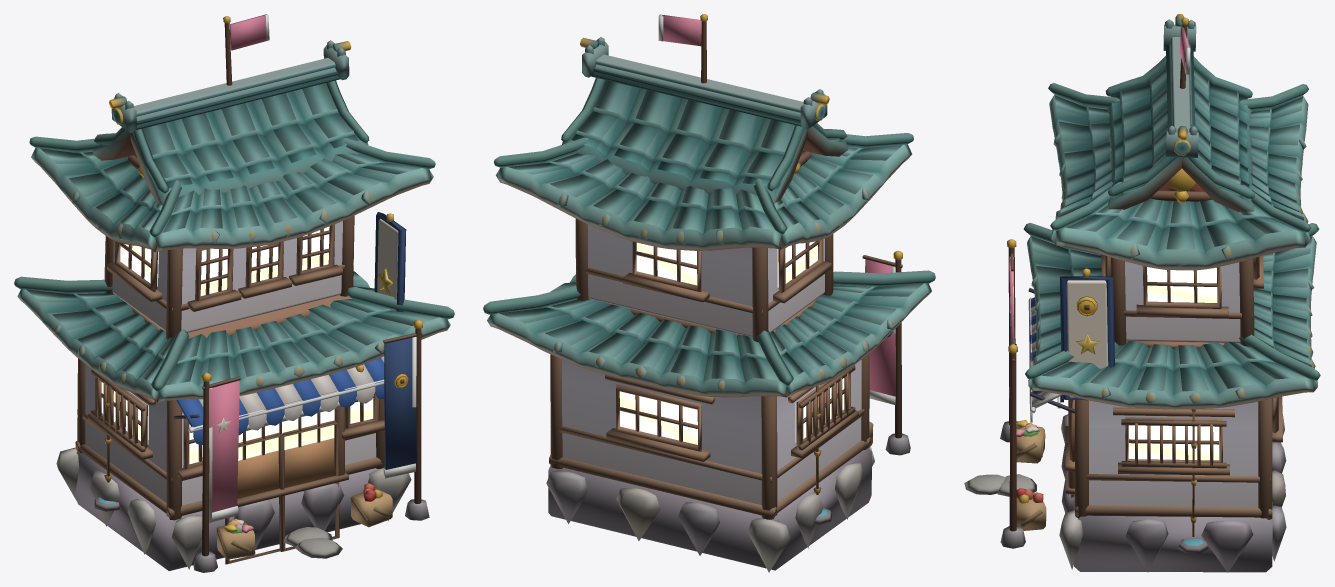
The model's file is shop-3-v1.glb.
The picture shows the model from 3 angles, left to right: view 1: azimuth 30°, elevation 25°; view 2: azimuth 150°, elevation 25°; view 3: azimuth 270°, elevation 25°; orthographic projection.
Visible parts, largest first — view 1: shop, window_glow; view 2: shop, window_glow; view 3: shop, window_glow.
Boxes of the visible parts, bbox=[...] form: shop: bbox=[14, 14, 454, 572]; window_glow: bbox=[101, 226, 373, 464]; shop: bbox=[483, 14, 935, 572]; window_glow: bbox=[619, 241, 844, 444]; shop: bbox=[964, 14, 1320, 572]; window_glow: bbox=[1128, 267, 1219, 460].
Size of the model in its own units: 3.57 by 5.56 by 3.56.
